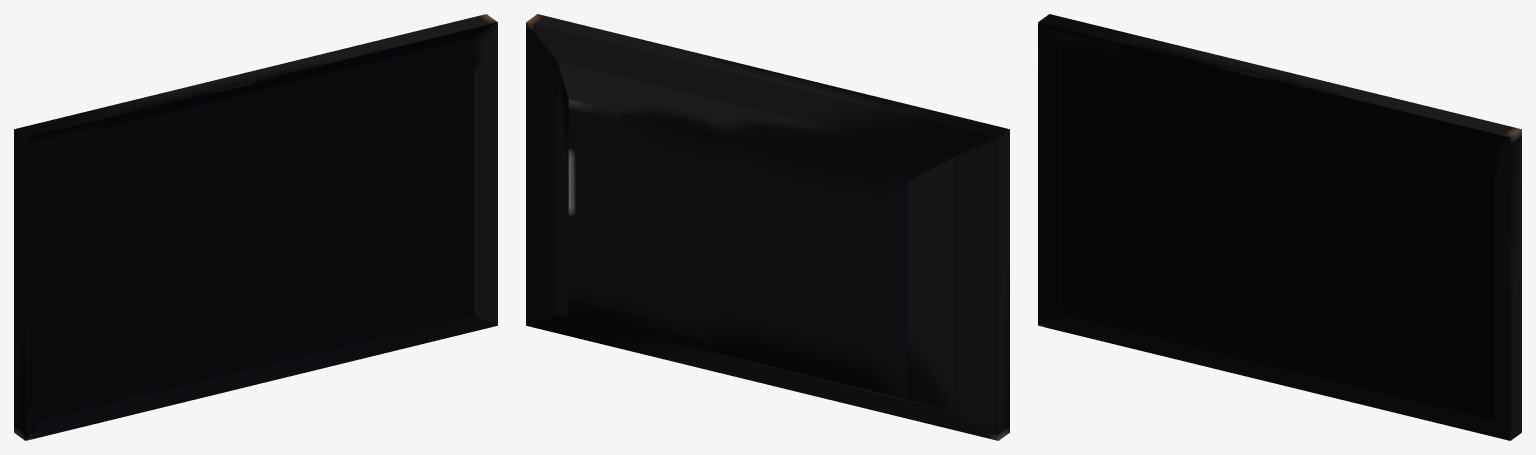
3 renders of one model, left to right at view 1: azimuth 30°, elevation 25°; view 2: azimuth 150°, elevation 25°; view 3: azimuth 330°, elevation 25°, orthographic.
Visible parts, largest first — view 1: pCube83; view 2: pCube83; view 3: pCube83.
Part boxes in pixels (left/top/right/bottom): pCube83: left=14, top=14, right=497, bottom=440; pCube83: left=526, top=14, right=1009, bottom=440; pCube83: left=1038, top=14, right=1521, bottom=440.
Bounding box in the file's own units: 694 × 426 × 90.6.
